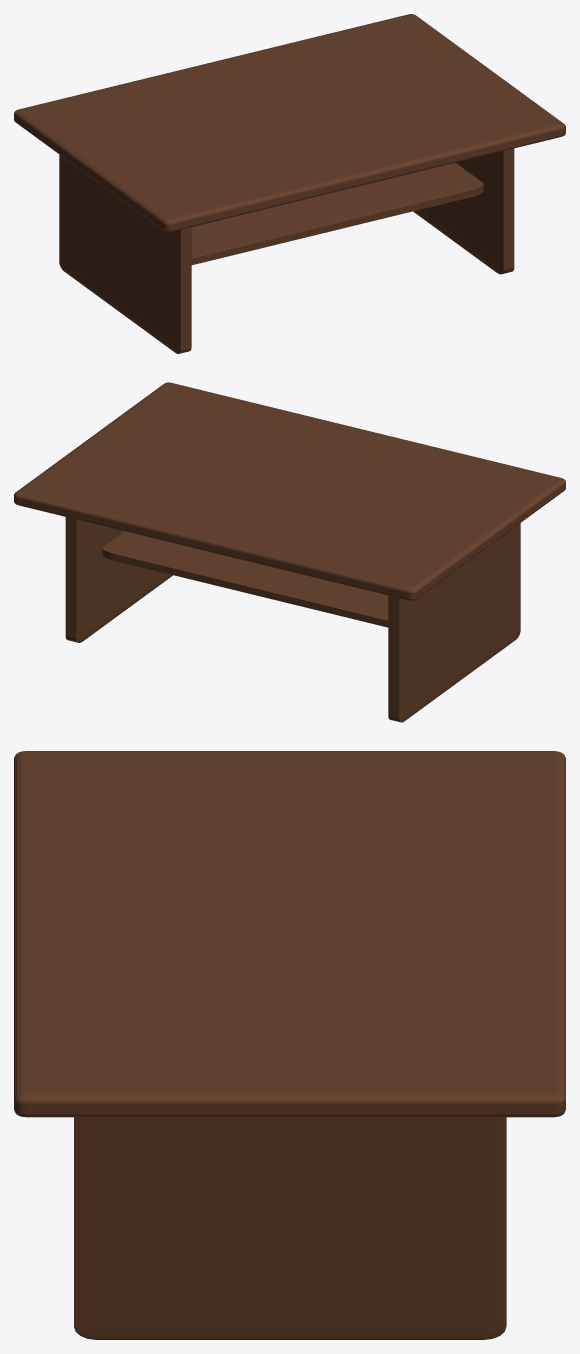
File: table_10.glb
3 views of the same model, one above another, from view 1: azimuth 30°, elevation 25°; view 2: azimuth 150°, elevation 25°; view 3: azimuth 270°, elevation 25° (orthographic). The views are drawn at different scales.
Visible parts, largest first — view 1: table_10.226; view 2: table_10.226; view 3: table_10.226.
Part boxes in pixels (x1,y1,x2,y2): table_10.226: [14, 14, 565, 353]; table_10.226: [14, 382, 565, 722]; table_10.226: [14, 751, 565, 1339].
Bounding box in the file's own units: 1.03 × 0.3755 × 0.6844.
